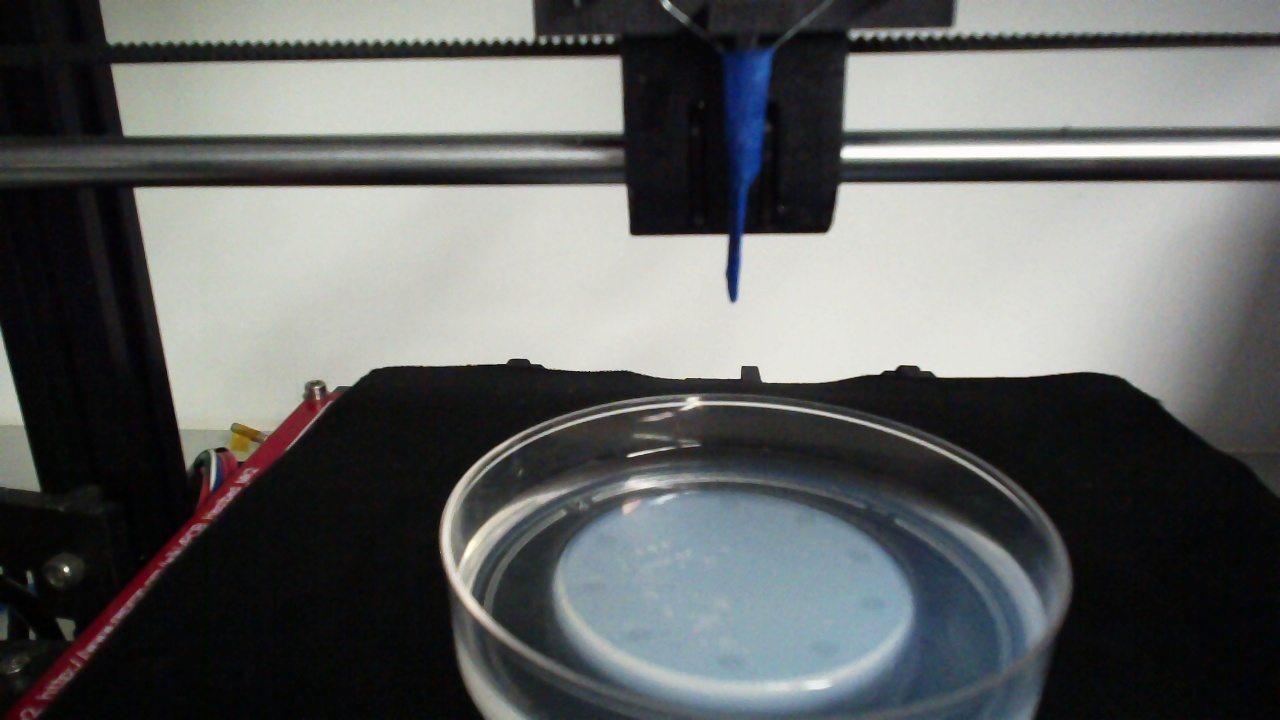groove: (717, 651, 749, 670), (808, 641, 842, 657), (860, 596, 890, 614), (717, 493, 742, 511), (621, 628, 655, 641), (848, 549, 874, 566), (592, 532, 619, 548), (794, 511, 819, 527), (578, 580, 608, 593)
needle: (726, 51, 773, 299)
